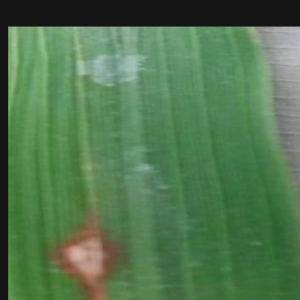Brown_Spot: (44, 202, 137, 300)
